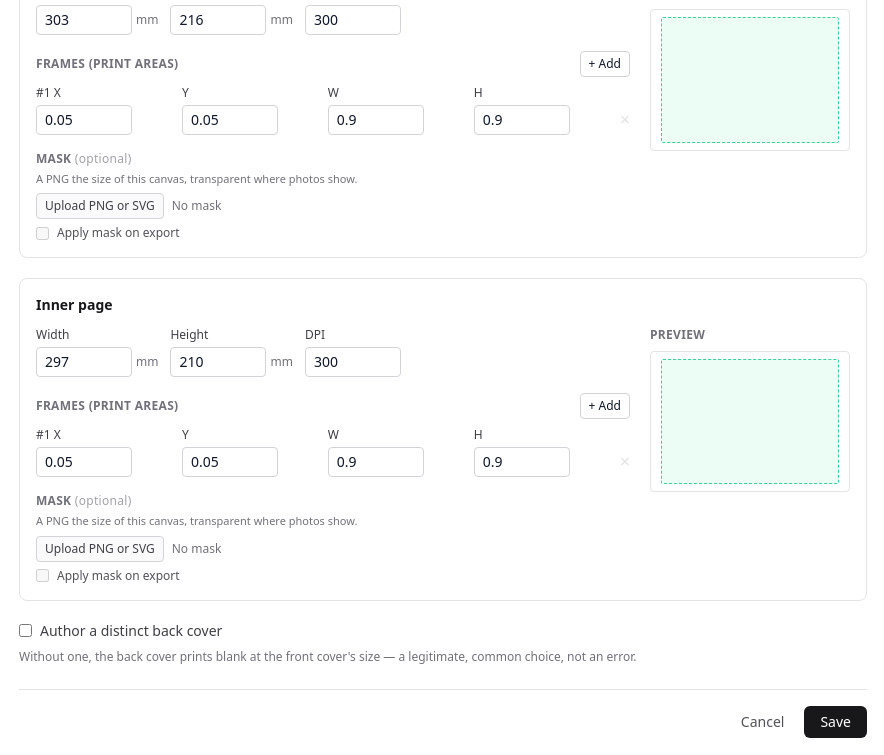
Test: BookLayoutEditor component › reveals the back-cover editor only once the checkbox is checked
(page scrolled)
Click the checkbox with test id "has-back-cover-checkbox": (26, 630) [19,624,32,637]
(page scrolled)
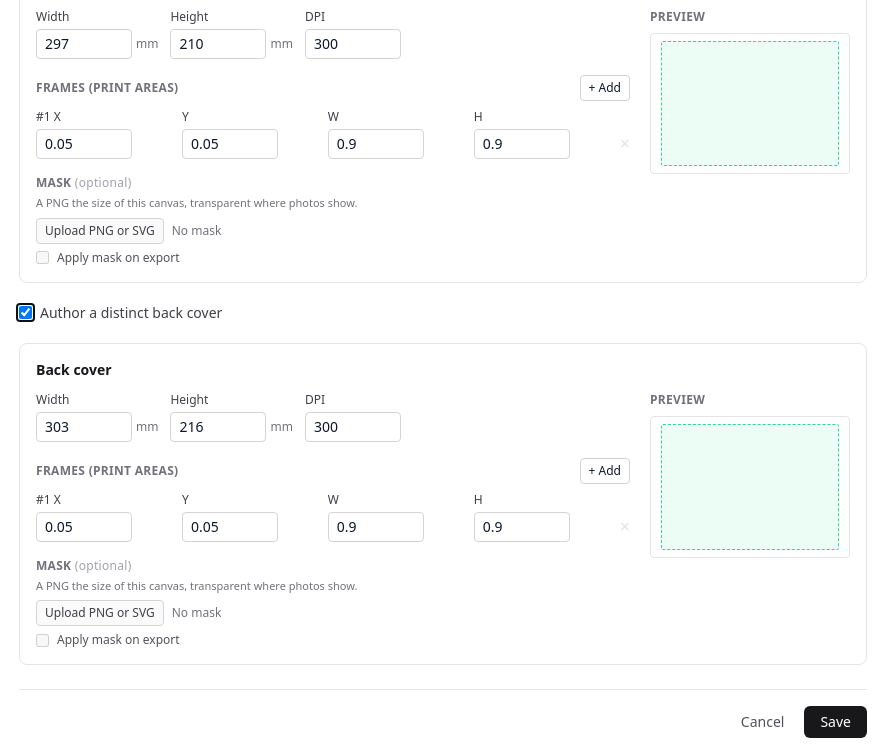
Result: the element with test id "role-section-back-cover" is shown at [19,342,867,665]
